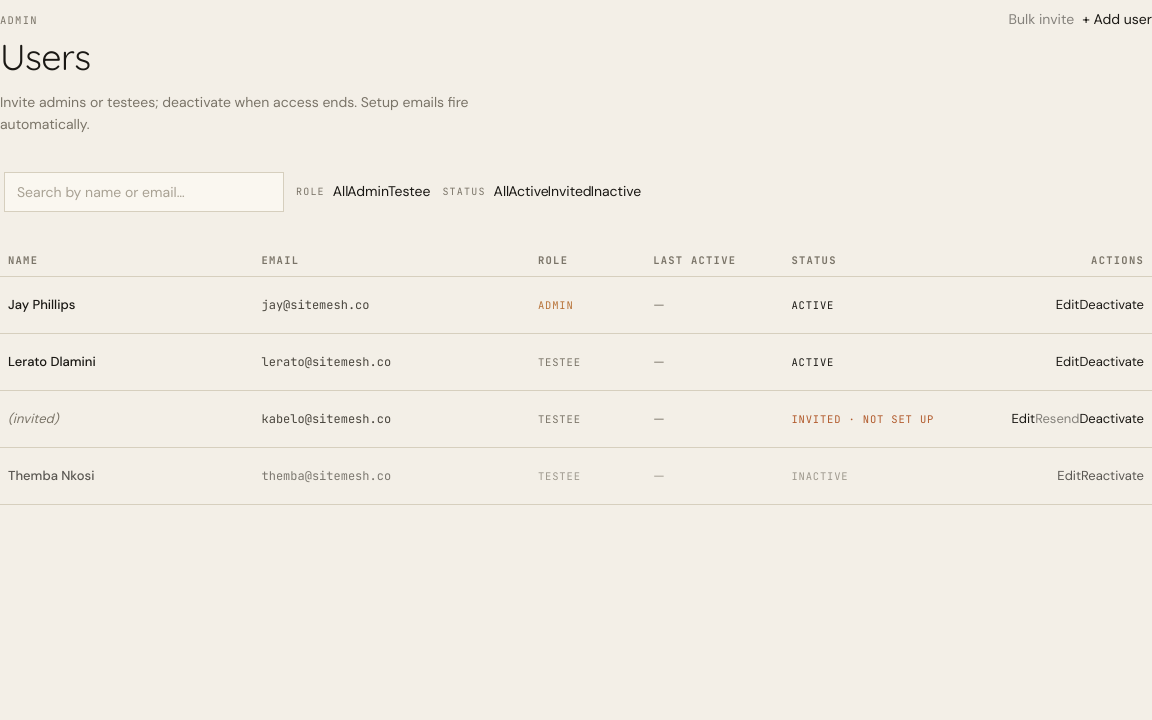
Test: users list — Add user flow › surfaces zod email validation error
Click the button with test id "users-add-button".
click(1117, 20)  # box [1082,0,1151,40]
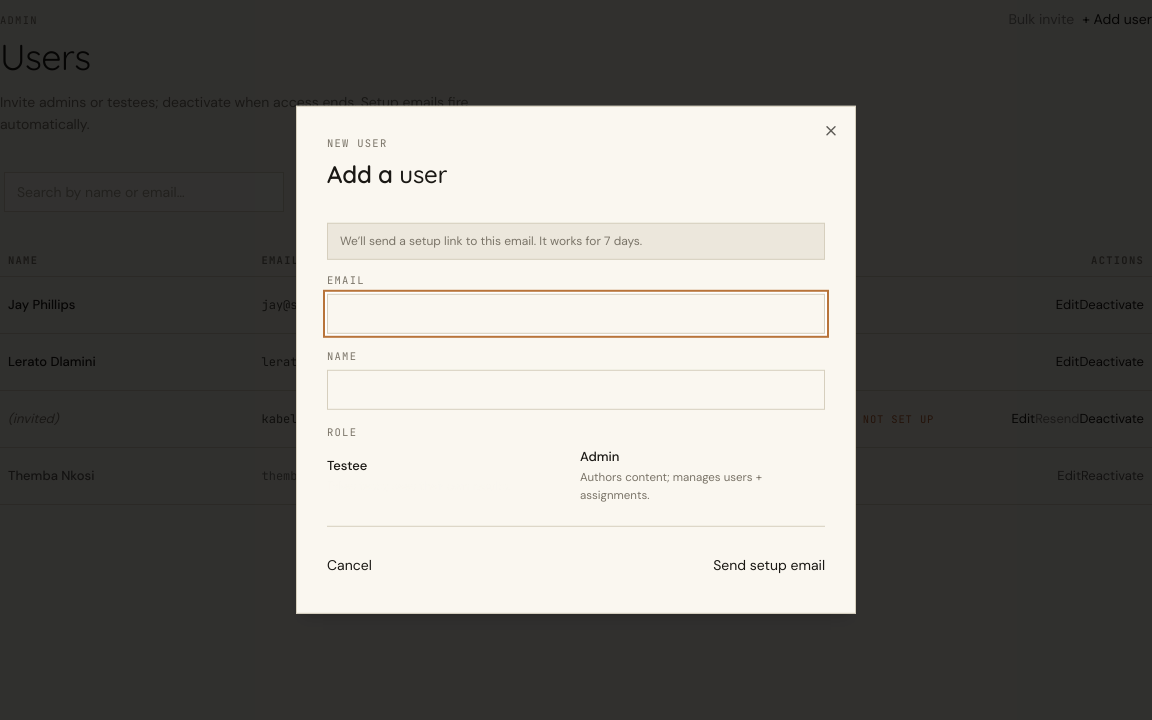
Type "lerato@sitemesh" into the field with test id "user-add-email".
click(576, 314); type("lerato@sitemesh")  # box [327,294,825,334]
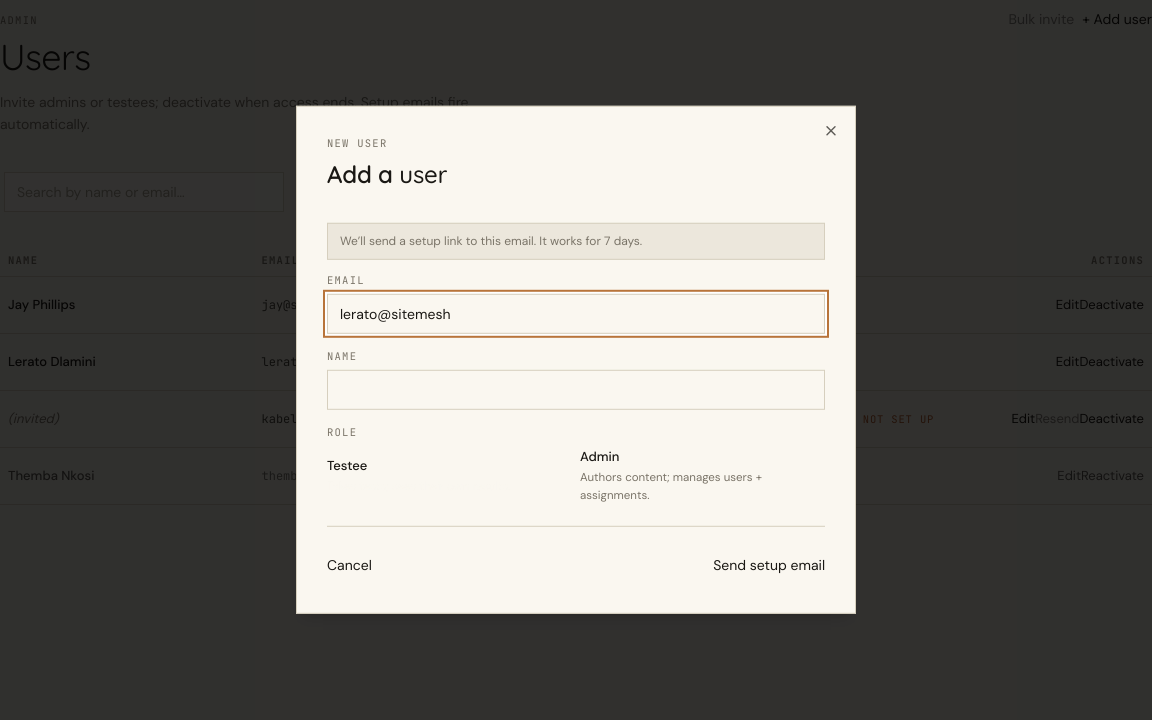
Type "Lerato" into the field with test id "user-add-name".
click(576, 390); type("Lerato")  # box [327,370,825,410]
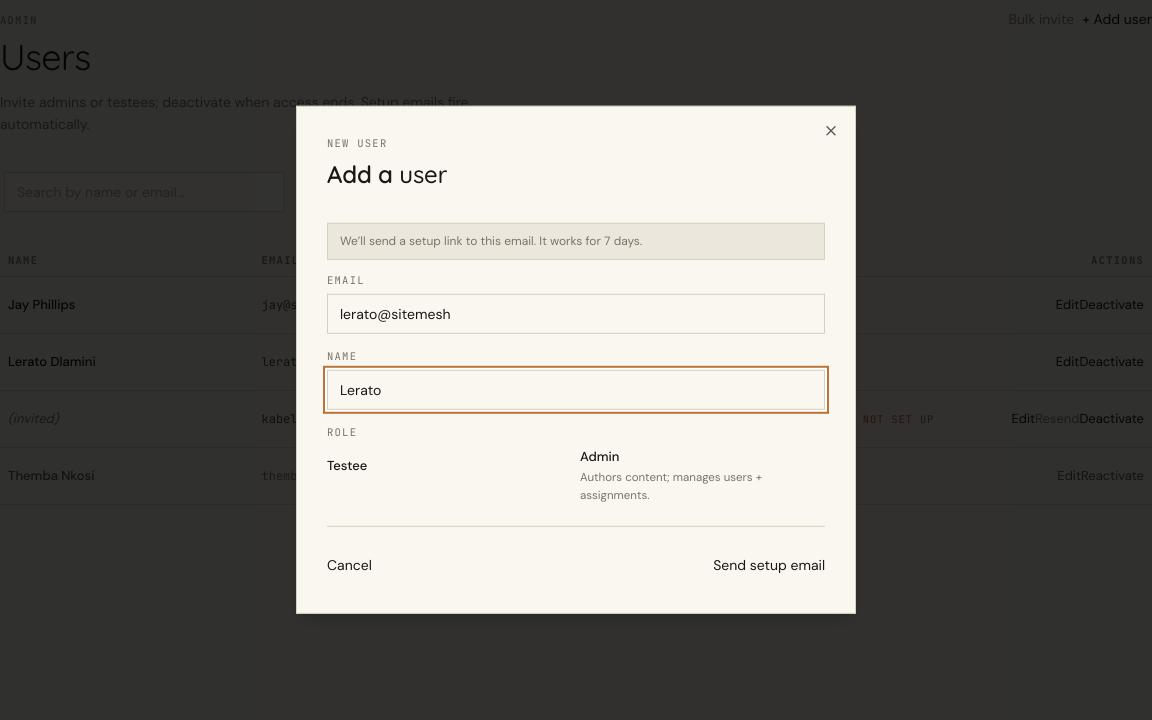
Click the button with test id "user-add-submit".
click(769, 565)  # box [713,545,825,585]
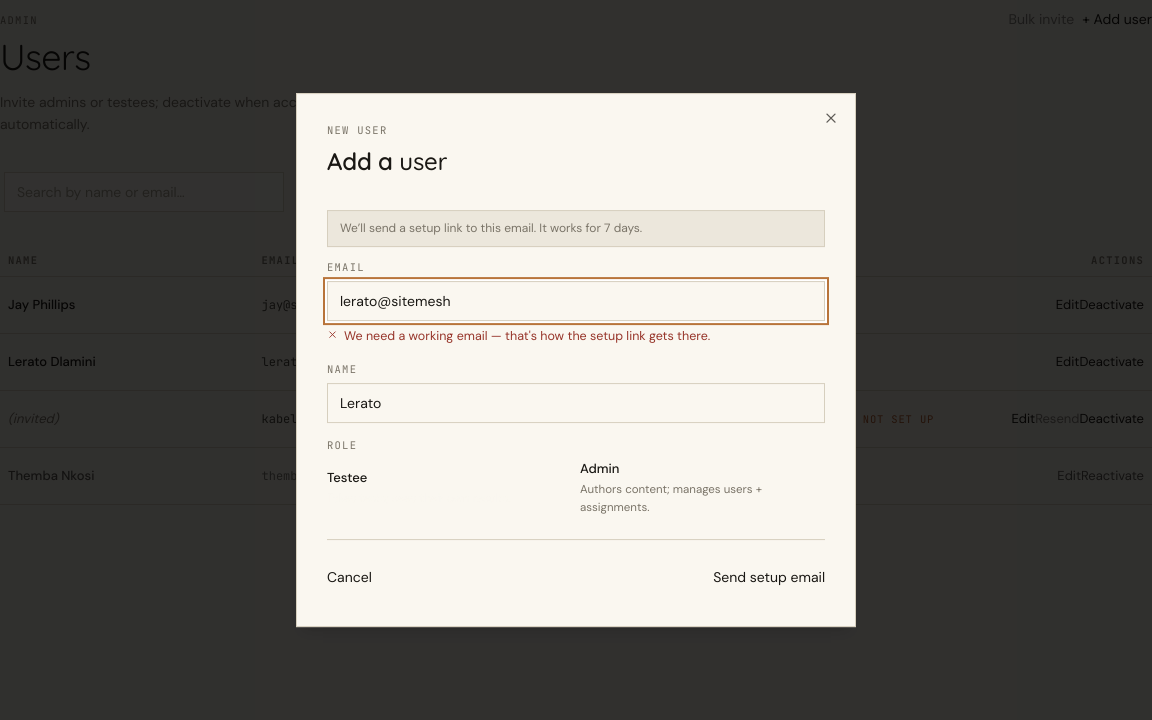
Result: the text "We need a working email" is shown at [344,328,710,344]
